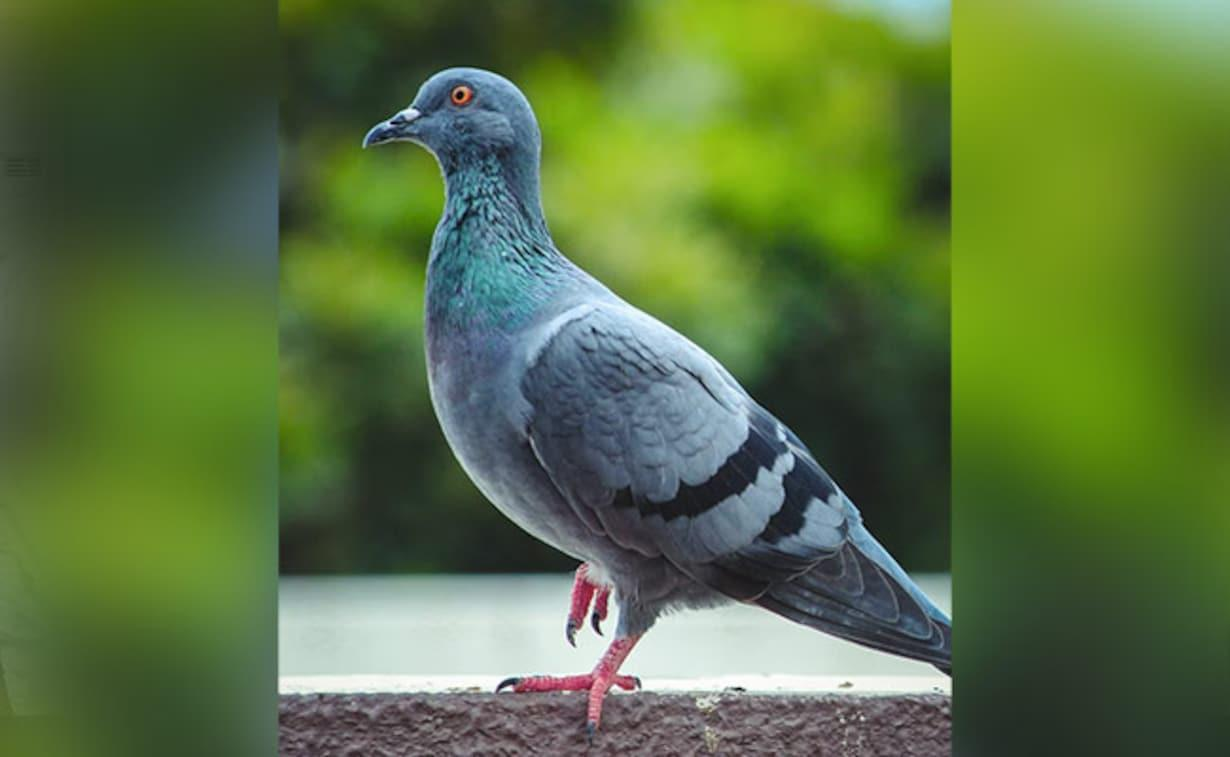Flying Rat: (354, 68, 949, 727)
